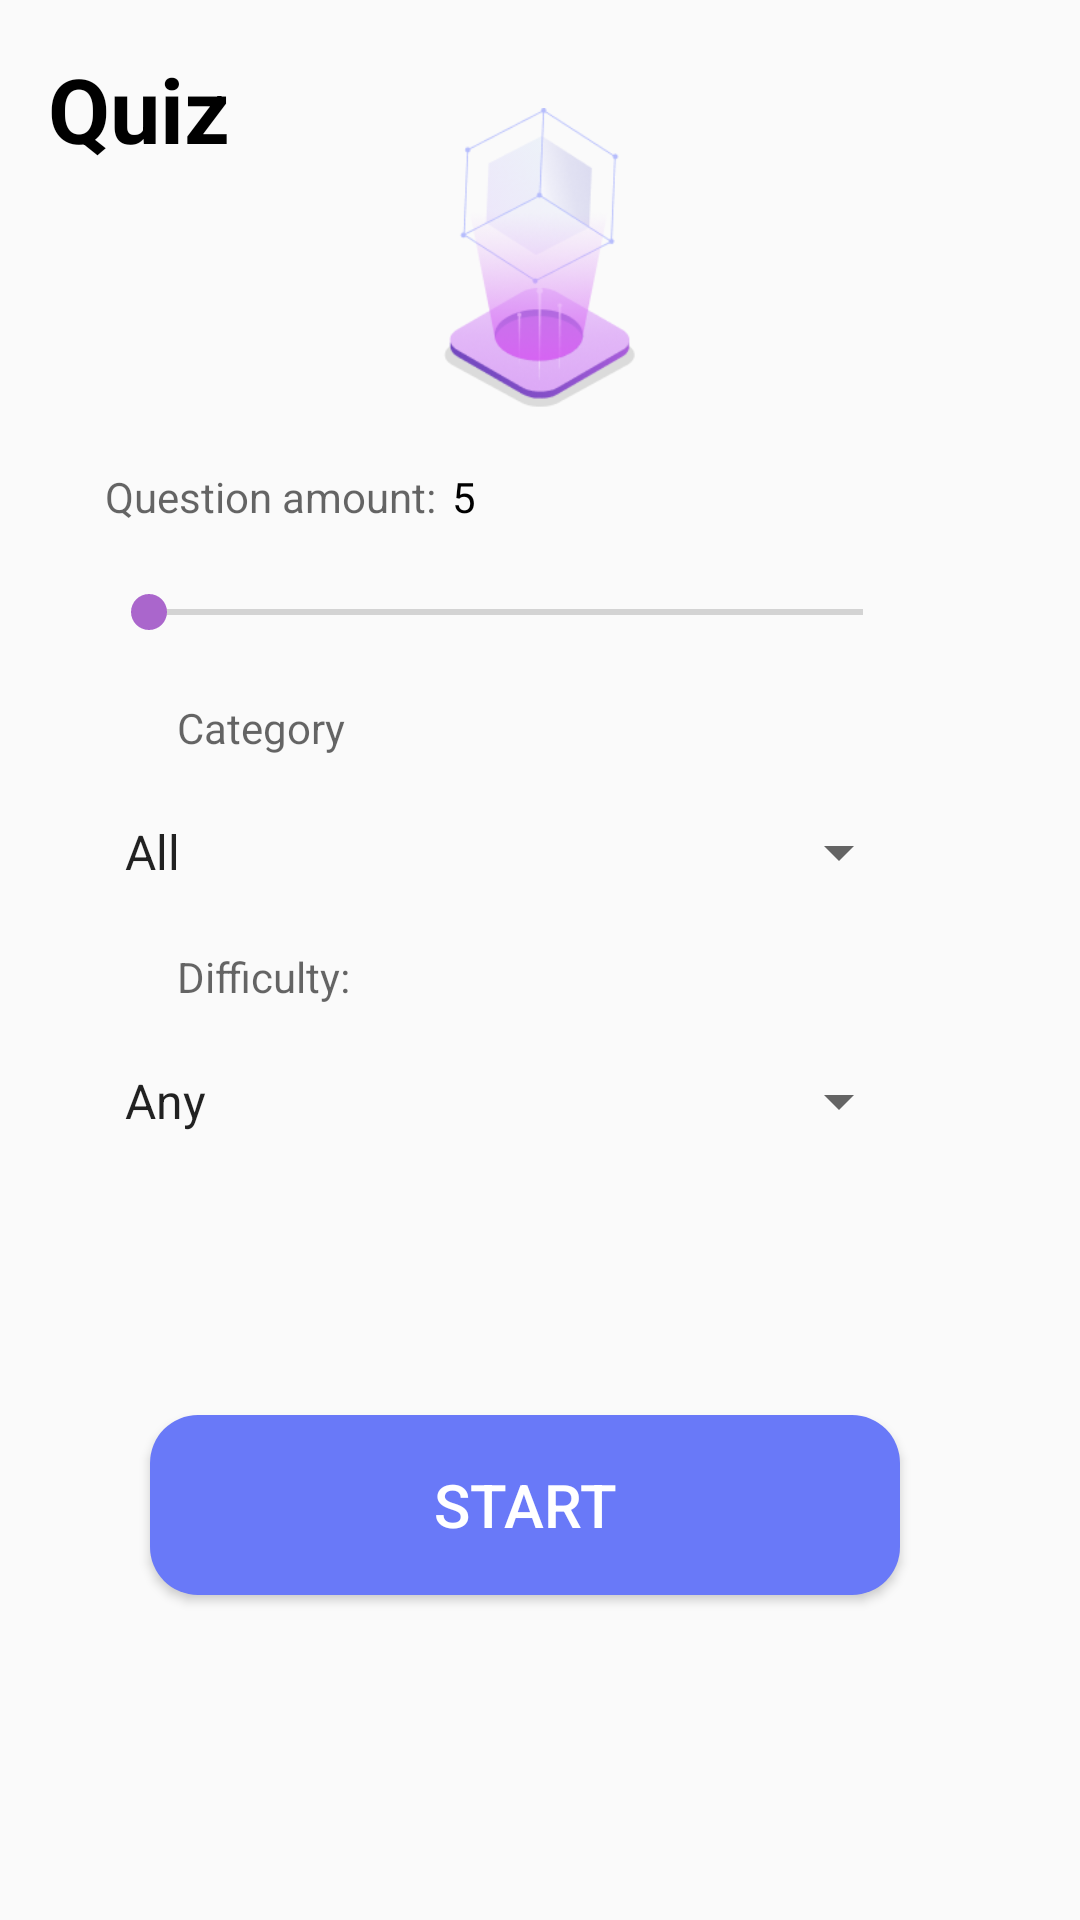

Screen size 1080px x 1920px. Icon name, then its box in pixels as (x1, y1, x2, y2):
illustration: (446, 108, 634, 406)
